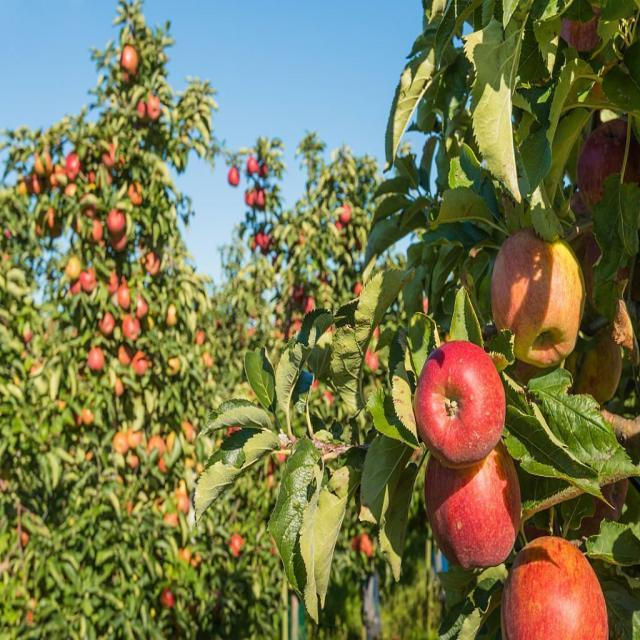Red Apple: (424, 452, 527, 572), (494, 239, 582, 372), (506, 547, 606, 640), (427, 344, 504, 456), (582, 122, 637, 214), (110, 209, 128, 232), (121, 45, 136, 72), (114, 433, 129, 456), (125, 316, 140, 337), (81, 269, 95, 290), (103, 314, 116, 335), (150, 99, 162, 120), (113, 233, 127, 251), (137, 353, 149, 374), (119, 347, 132, 365), (89, 352, 102, 369), (70, 156, 80, 176), (122, 288, 133, 306), (233, 533, 243, 552), (136, 299, 148, 314), (131, 429, 142, 445), (230, 169, 240, 185), (137, 104, 147, 115), (248, 193, 256, 205), (258, 195, 266, 207), (343, 208, 351, 220), (250, 161, 258, 172), (258, 235, 264, 245), (264, 237, 270, 245), (263, 165, 267, 174)
